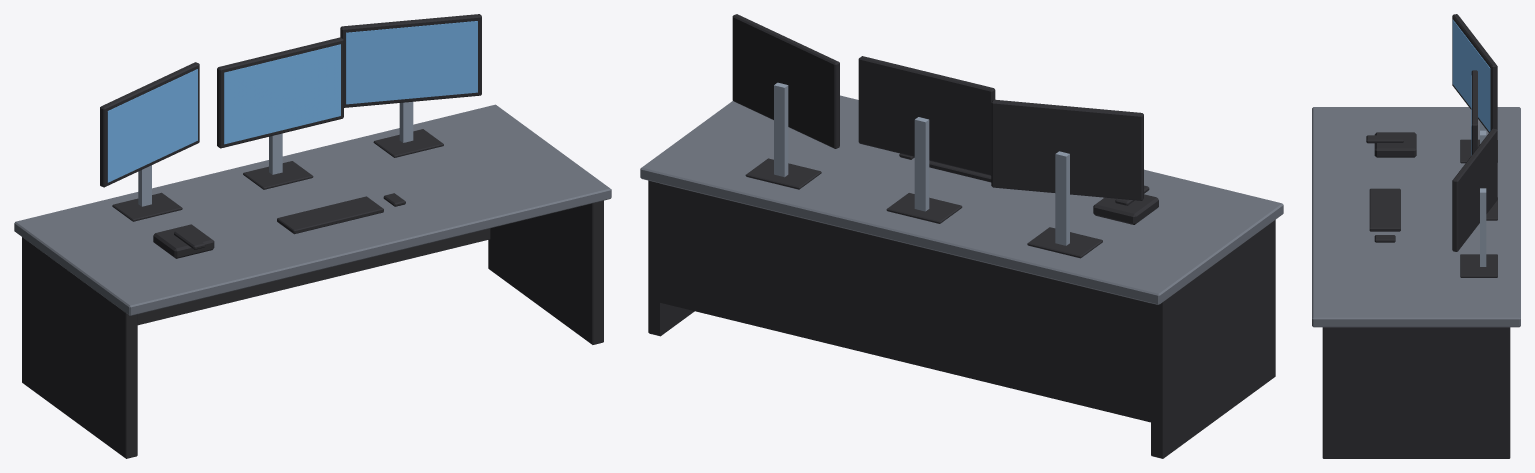
File: noc_desk.fbx
The picture shows the model from 3 angles, left to right: view 1: azimuth 30°, elevation 25°; view 2: azimuth 150°, elevation 25°; view 3: azimuth 270°, elevation 25°; orthographic projection. The views are drawn at different scales.
Visible parts, largest first — view 1: Desk, Screens; view 2: Desk; view 3: Desk, Screens.
Part boxes in pixels (left/top/right/bottom): Desk: left=14, top=14, right=611, bottom=458; Screens: left=107, top=21, right=477, bottom=182; Desk: left=640, top=14, right=1283, bottom=458; Desk: left=1312, top=14, right=1520, bottom=458; Screens: left=1452, top=20, right=1490, bottom=155.
Size of the model in its own units: 2.4 by 1.36 by 1.
